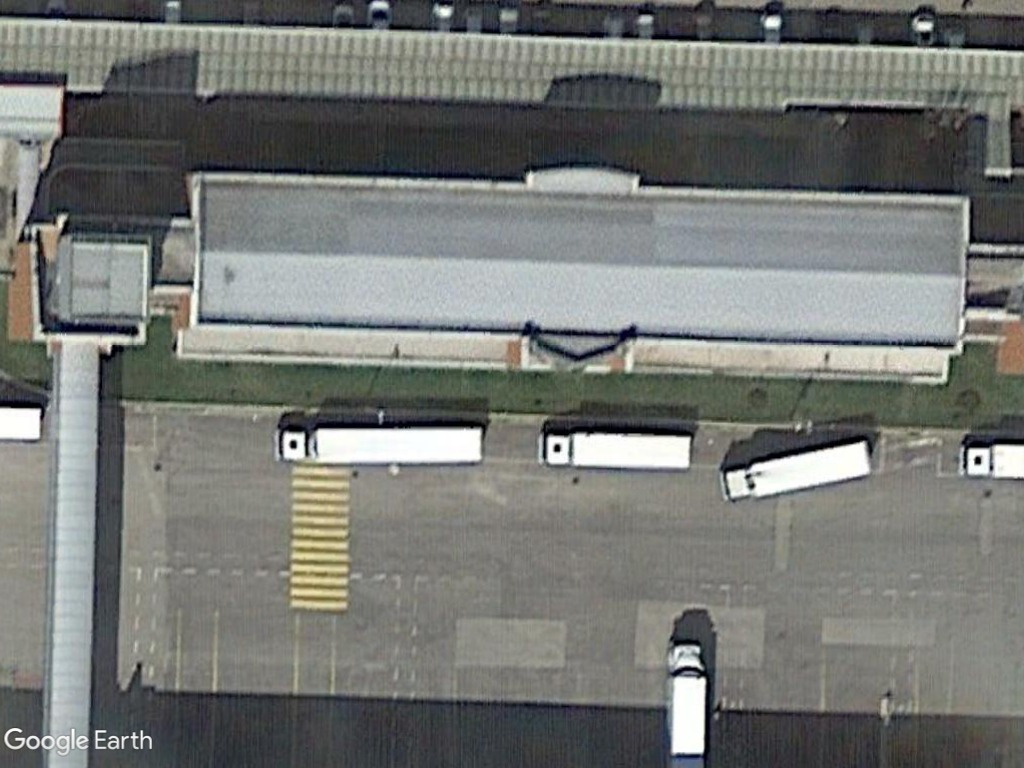longvehicle: (717, 431, 877, 507), (270, 420, 488, 471), (532, 426, 697, 473)
truck: (664, 635, 711, 761)
